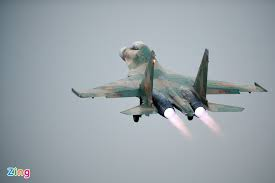maybay_muctieu: (84, 39, 261, 130)
